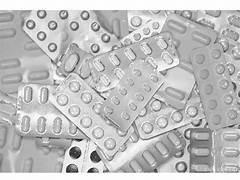pill_Strip: (50, 73, 132, 155), (89, 33, 178, 91), (23, 10, 119, 61), (101, 59, 164, 130), (0, 11, 52, 93), (190, 44, 238, 129), (15, 84, 85, 138), (16, 84, 84, 138), (17, 84, 85, 138), (97, 131, 185, 171), (0, 123, 63, 171), (135, 96, 204, 138), (162, 14, 216, 62), (157, 119, 205, 172), (116, 32, 178, 70), (0, 54, 53, 93), (97, 126, 139, 171), (154, 62, 194, 109), (0, 10, 39, 58), (154, 62, 194, 108), (96, 128, 138, 171), (155, 62, 194, 108), (56, 43, 95, 88), (56, 44, 94, 87), (15, 138, 64, 171), (53, 53, 96, 88), (178, 118, 206, 171), (15, 141, 63, 171), (62, 139, 105, 172), (93, 53, 130, 91), (120, 16, 166, 45), (195, 10, 239, 40), (146, 32, 179, 71), (88, 63, 123, 97), (213, 128, 239, 172), (57, 44, 90, 78), (213, 128, 238, 171), (218, 39, 239, 90), (189, 128, 213, 172), (156, 142, 188, 172), (94, 10, 128, 38), (57, 44, 86, 76), (62, 139, 88, 173), (219, 40, 239, 83), (194, 10, 233, 31), (220, 40, 239, 83), (128, 10, 166, 31), (53, 72, 90, 93), (73, 53, 95, 88), (188, 84, 206, 126), (82, 140, 105, 172), (73, 53, 94, 86), (78, 57, 99, 89), (139, 96, 172, 116), (139, 96, 171, 116), (75, 53, 94, 86), (178, 118, 207, 139), (219, 11, 239, 41), (0, 90, 16, 124), (154, 96, 186, 113), (139, 97, 167, 116), (139, 97, 166, 116), (170, 10, 204, 25), (183, 97, 204, 121), (128, 10, 151, 31), (139, 96, 163, 116), (35, 137, 72, 149), (0, 122, 9, 170), (195, 12, 218, 30), (225, 54, 239, 83), (0, 102, 16, 124), (0, 122, 10, 154), (165, 10, 196, 20), (169, 10, 197, 20), (0, 90, 16, 106), (216, 162, 238, 172), (232, 82, 239, 112), (53, 65, 64, 84), (222, 28, 238, 40), (0, 102, 15, 114), (22, 158, 34, 172), (0, 28, 15, 38), (233, 82, 239, 106), (0, 112, 11, 123), (233, 82, 239, 101), (228, 17, 239, 27), (99, 90, 110, 98), (192, 83, 199, 95), (164, 10, 179, 15), (165, 10, 179, 15), (228, 124, 239, 128), (0, 154, 2, 163)
